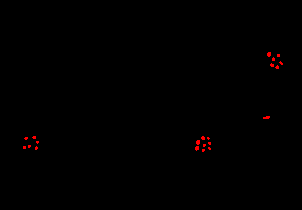Target: (263, 116, 270, 119), (267, 52, 271, 57), (196, 140, 200, 145), (195, 146, 199, 151), (279, 61, 283, 65), (270, 63, 274, 67), (275, 65, 279, 69), (201, 136, 205, 140), (272, 57, 275, 61), (32, 136, 36, 139), (24, 137, 28, 140), (35, 146, 38, 150), (277, 54, 280, 57), (207, 137, 210, 140), (36, 141, 39, 144), (208, 142, 211, 145), (203, 144, 206, 147), (28, 145, 31, 148), (23, 146, 26, 149), (208, 147, 211, 150), (202, 149, 205, 152)
